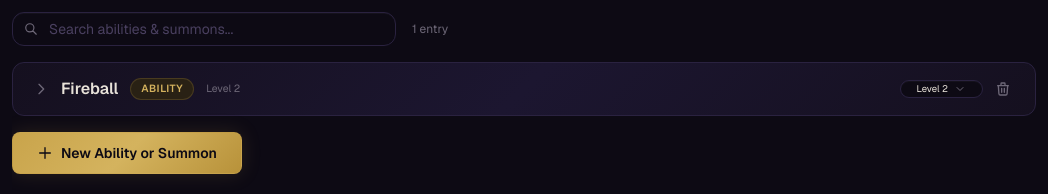
Test: AbilitiesTab › renders level select dropdown for abilities with levels
This screenshot has width=1048, height=194.
Click the dropdown at [941, 89], box [900, 80, 983, 98]
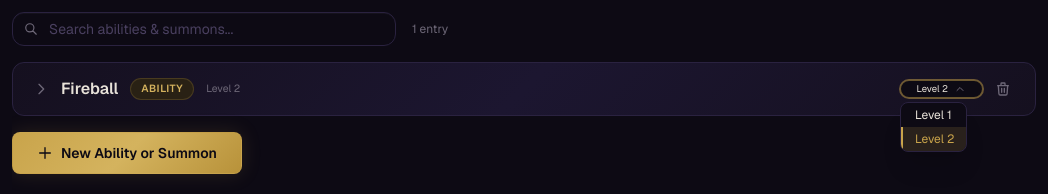
Now the option "Level 1" is shown, box [901, 103, 966, 127]
Now the option "Level 2" is shown, box [901, 127, 966, 151]
